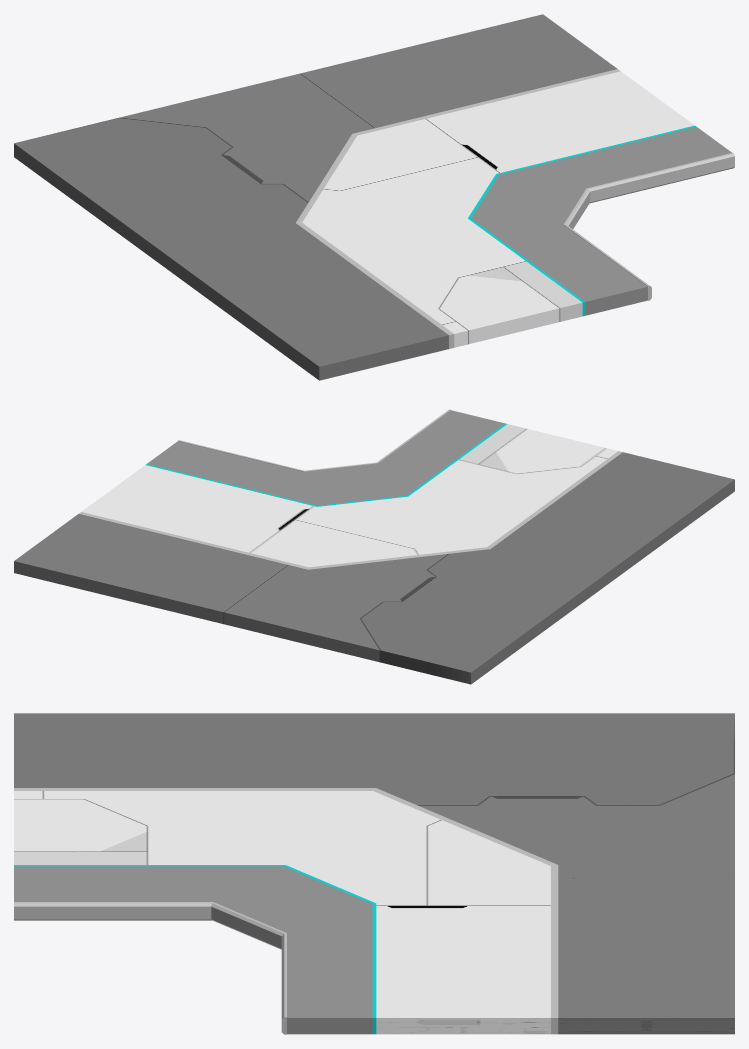
The model's file is SM_Platform_Interior_8x8_Corner.fbx.
3 renders of one model, top to bottom at view 1: azimuth 30°, elevation 25°; view 2: azimuth 150°, elevation 25°; view 3: azimuth 270°, elevation 25°, orthographic. The views are drawn at different scales.
Visible parts, largest first — view 1: SM_Platform_Interior_8x8_Corner; view 2: SM_Platform_Interior_8x8_Corner; view 3: SM_Platform_Interior_8x8_Corner.
Part boxes in pixels (x1,y1,x2,y2): SM_Platform_Interior_8x8_Corner: (14, 14, 734, 380); SM_Platform_Interior_8x8_Corner: (14, 409, 734, 684); SM_Platform_Interior_8x8_Corner: (14, 713, 734, 1034).
Size of the model in its own units: 800 by 21.21 by 800.
